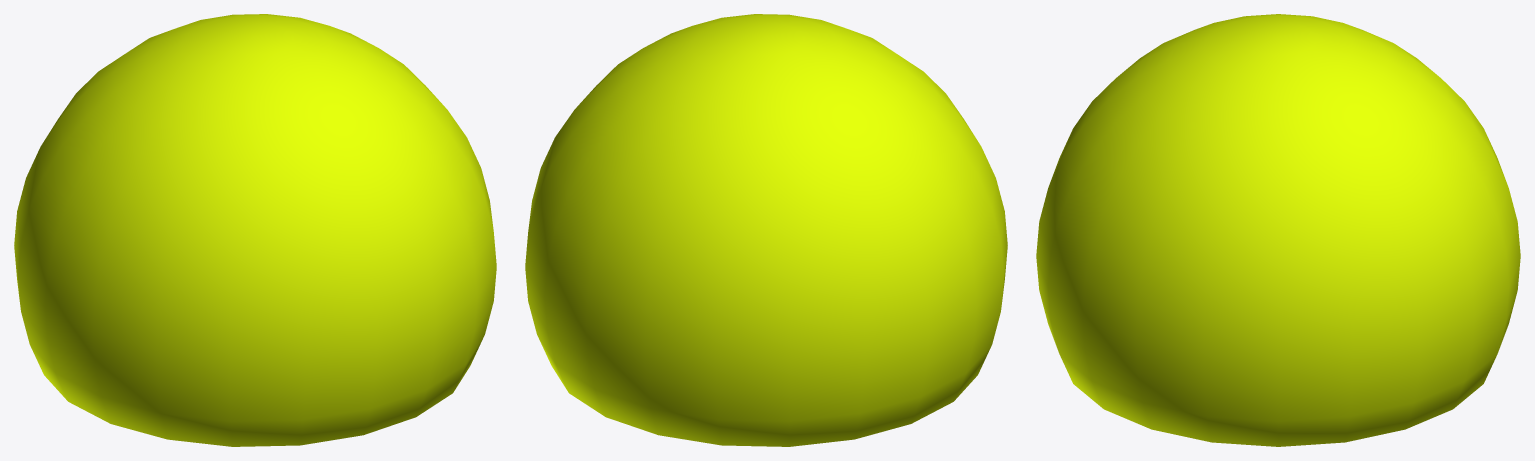
Rendered from slime5.fbx.
3 renders of one model, left to right at view 1: azimuth 30°, elevation 25°; view 2: azimuth 150°, elevation 25°; view 3: azimuth 270°, elevation 25°, orthographic.
Visible parts, largest first — view 1: polySurface3; view 2: polySurface3; view 3: polySurface3.
Boxes of the visible parts, x1=… form: polySurface3: x1=14, y1=14, x2=496, y2=446; polySurface3: x1=525, y1=14, x2=1007, y2=446; polySurface3: x1=1036, y1=14, x2=1520, y2=446.
Bounding box in the file's own units: 2 × 1.46 × 2.
